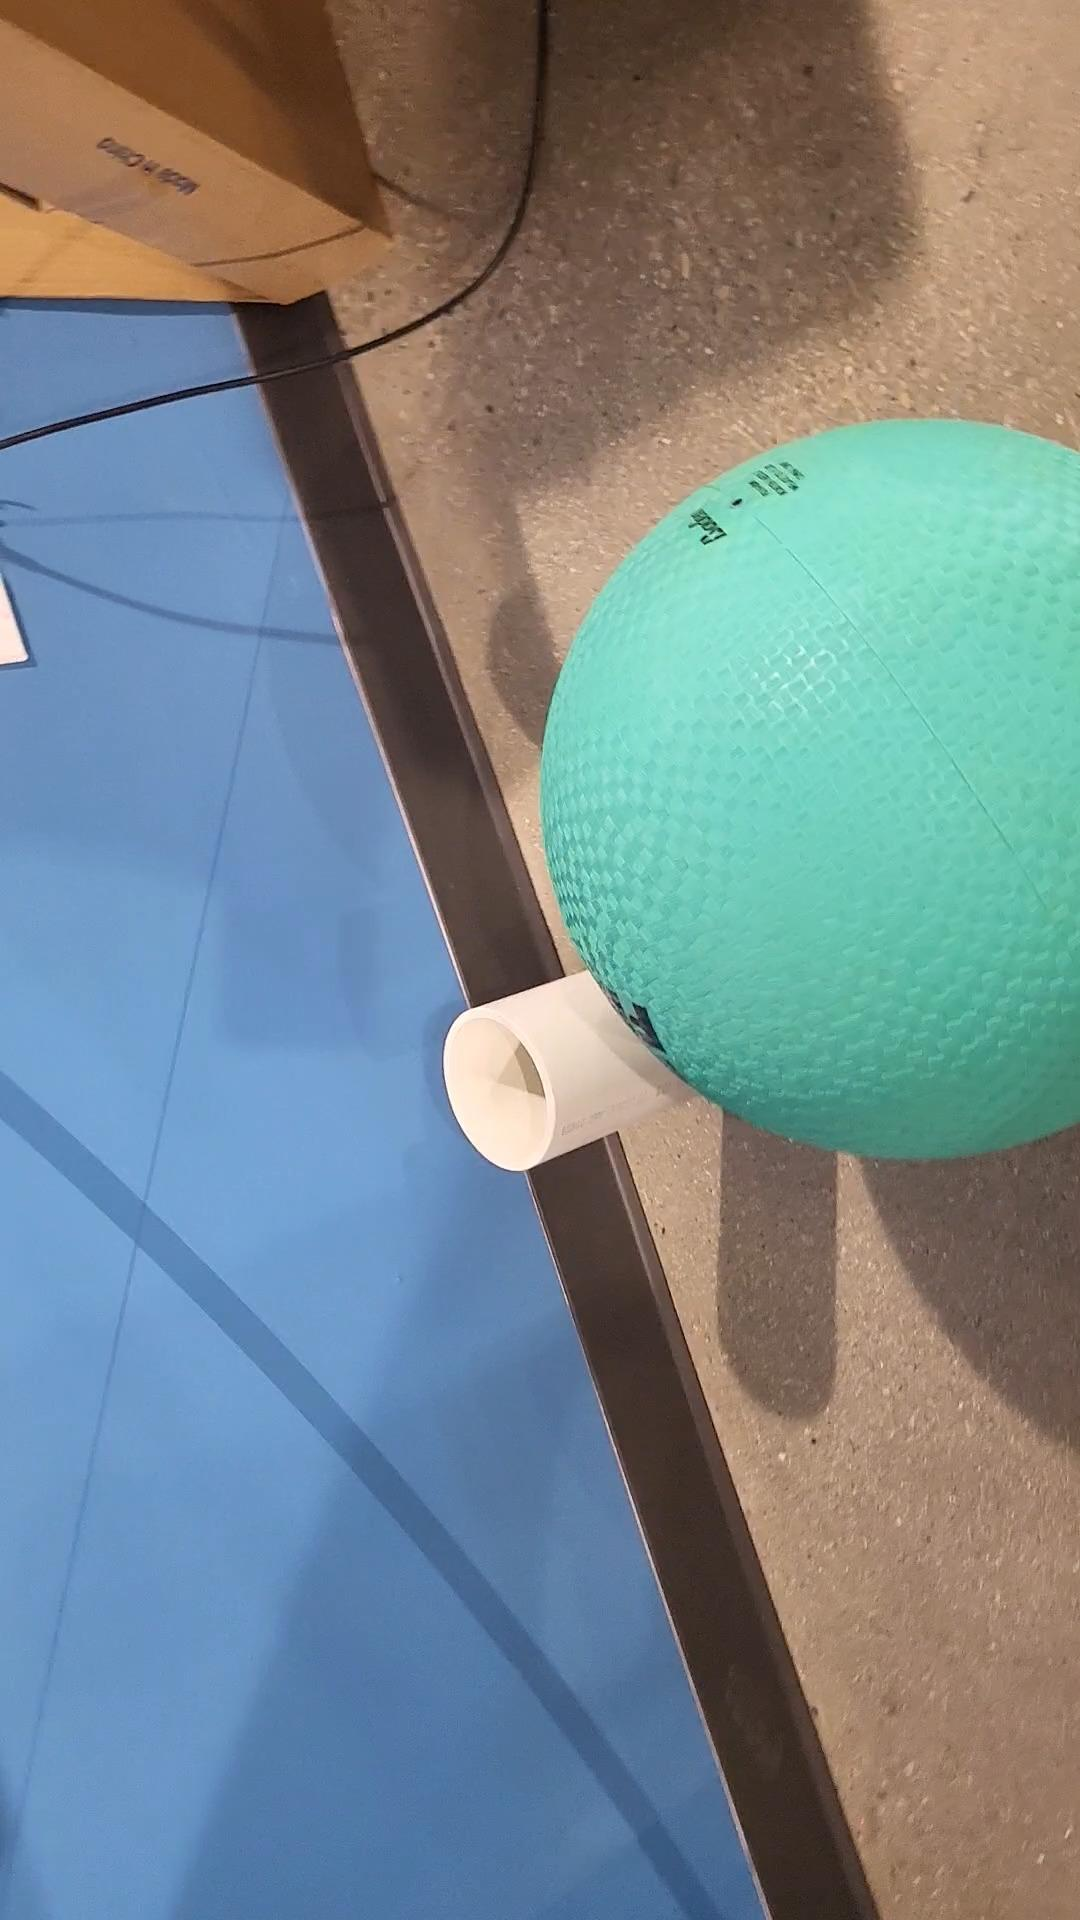algae: (538, 418, 1079, 1163)
coral: (444, 968, 684, 1170)
